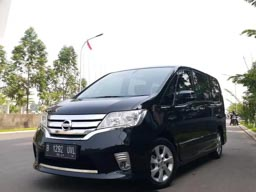plat: (43, 142, 78, 154)
